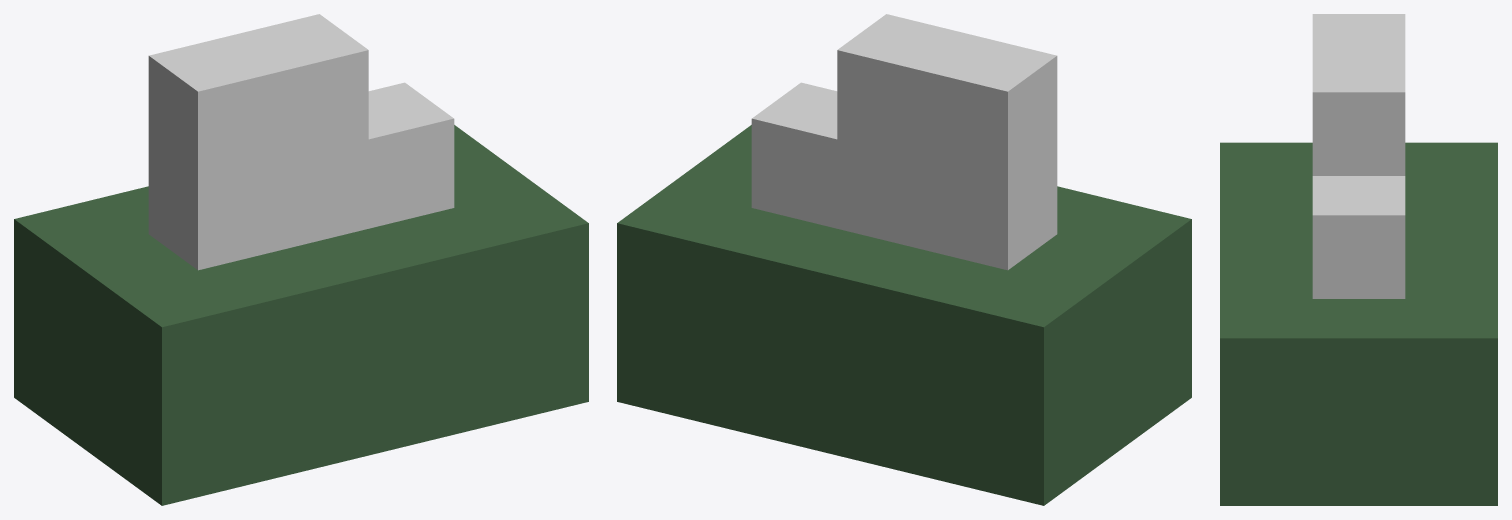
File: TissueBox.obj
3 views of the same model, side by side, from view 1: azimuth 30°, elevation 25°; view 2: azimuth 150°, elevation 25°; view 3: azimuth 270°, elevation 25° (orthographic). The views are drawn at different scales.
Visible parts, largest first — view 1: TissueBox; view 2: TissueBox; view 3: TissueBox.
Boxes of the visible parts, left/top/right/bottom form: TissueBox: left=14, top=14, right=588, bottom=505; TissueBox: left=617, top=14, right=1191, bottom=505; TissueBox: left=1220, top=14, right=1497, bottom=505.
Size of the model in its own units: 5 by 4 by 3.
1 material, 1 textured.
